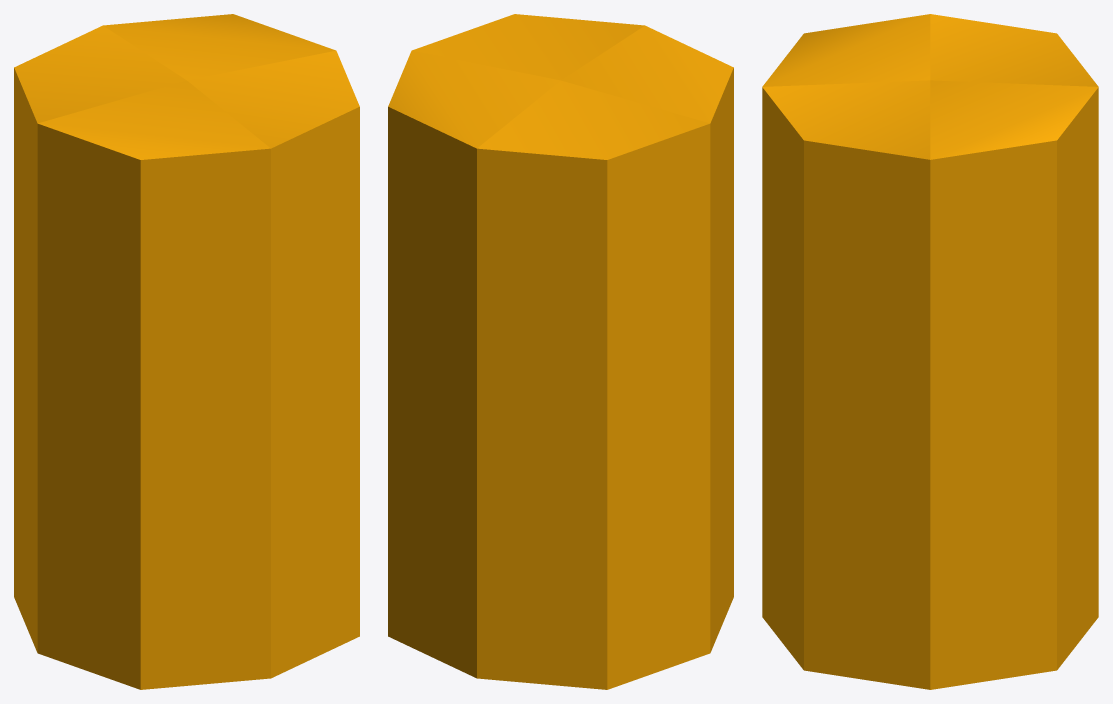
File: character.glb
3 views of the same model, side by side, from view 1: azimuth 30°, elevation 25°; view 2: azimuth 150°, elevation 25°; view 3: azimuth 270°, elevation 25° (orthographic).
Visible parts, largest first — view 1: Plane; view 2: Plane; view 3: Plane.
Boxes of the visible parts, x1=… form: Plane: x1=14, y1=14, x2=359, y2=689; Plane: x1=388, y1=14, x2=733, y2=689; Plane: x1=762, y1=14, x2=1098, y2=689.
Bounding box in the file's own units: 1 × 1.74 × 0.9754.
